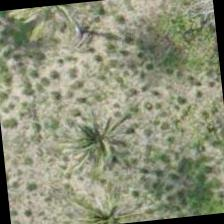Kelapa_Sawit: (50, 89, 149, 188), (58, 171, 154, 223)
